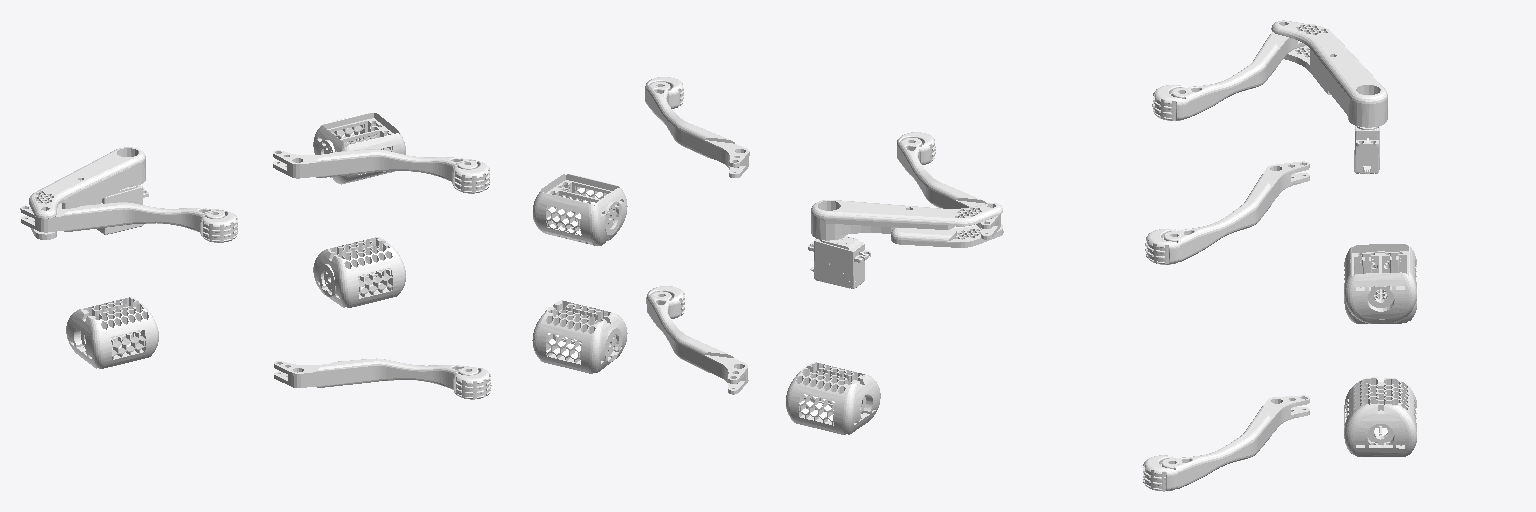
The robot description file, URDF, robot "Main Body URDF":
<?xml version="1.0" encoding="utf-8"?>
<!-- This URDF was automatically created by SolidWorks to URDF Exporter! Originally created by [author] ([email redacted]) 
     Commit Version: 1.6.0-4-g7f85cfe  Build Version: 1.6.7995.38578
     For more information, please see http://wiki.ros.org/sw_urdf_exporter -->
<robot
  name="Main Body URDF">
  <link
    name="base_link">
    <inertial>
      <origin
        xyz="-1.11022302462516E-16 -0.00302360042075001 -5.55111512312578E-17"
        rpy="0 0 0" />
      <mass
        value="0.315535261055246" />
      <inertia
        ixx="5.55978934043807E-05"
        ixy="-2.21301947020217E-21"
        ixz="2.86161333089283E-22"
        iyy="0.000227649084365836"
        iyz="-9.09924908316124E-21"
        izz="0.000187249617089345" />
    </inertial>
    <visual>
      <origin
        xyz="0 0 0"
        rpy="0 0 0" />
      <geometry>
        <mesh
          filename="package://Main Body URDF/meshes/base_link.STL" />
      </geometry>
      <material
        name="">
        <color
          rgba="1 1 1 1" />
      </material>
    </visual>
    <collision>
      <origin
        xyz="0 0 0"
        rpy="0 0 0" />
      <geometry>
        <mesh
          filename="package://Main Body URDF/meshes/base_link.STL" />
      </geometry>
    </collision>
  </link>
  <link
    name="fl_hip">
    <inertial>
      <origin
        xyz="0.0272971333033659 1.75159621585708E-05 0.00247430441137858"
        rpy="0 0 0" />
      <mass
        value="0.0474176719706317" />
      <inertia
        ixx="2.17411039399834E-05"
        ixy="-7.54915453759263E-09"
        ixz="-3.88620482540352E-07"
        iyy="3.26033730626776E-05"
        iyz="1.65166872304555E-07"
        izz="4.2637056945374E-05" />
    </inertial>
    <visual>
      <origin
        xyz="0 0 0"
        rpy="0 0 0" />
      <geometry>
        <mesh
          filename="package://Main Body URDF/meshes/fl_hip.STL" />
      </geometry>
      <material
        name="">
        <color
          rgba="1 1 1 1" />
      </material>
    </visual>
    <collision>
      <origin
        xyz="0 0 0"
        rpy="0 0 0" />
      <geometry>
        <mesh
          filename="package://Main Body URDF/meshes/fl_hip.STL" />
      </geometry>
    </collision>
  </link>
  <joint
    name="fl_hip"
    type="continuous">
    <origin
      xyz="0.0984 -0.0030292 -0.060681"
      rpy="0 0 0" />
    <parent
      link="base_link" />
    <child
      link="fl_hip" />
    <axis
      xyz="1 0 0" />
  </joint>
  <link
    name="fl_top">
    <inertial>
      <origin
        xyz="-0.0327093590748004 -0.0129114746104738 0.00626100034714228"
        rpy="0 0 0" />
      <mass
        value="0.139807399014711" />
      <inertia
        ixx="3.65926535985209E-05"
        ixy="-4.86382412840218E-05"
        ixz="1.9486191771268E-06"
        iyy="0.000125513458229608"
        iyz="1.26374835194812E-06"
        izz="0.000148862975841844" />
    </inertial>
    <visual>
      <origin
        xyz="0 0 0"
        rpy="0 0 0" />
      <geometry>
        <mesh
          filename="package://Main Body URDF/meshes/fl_top.STL" />
      </geometry>
      <material
        name="">
        <color
          rgba="1 1 1 1" />
      </material>
    </visual>
    <collision>
      <origin
        xyz="0 0 0"
        rpy="0 0 0" />
      <geometry>
        <mesh
          filename="package://Main Body URDF/meshes/fl_top.STL" />
      </geometry>
    </collision>
  </link>
  <joint
    name="fl_top"
    type="continuous">
    <origin
      xyz="0.0386 -0.011483 -0.032232"
      rpy="0 0 0" />
    <parent
      link="fl_hip" />
    <child
      link="fl_top" />
    <axis
      xyz="0 -0.01495 -0.99989" />
  </joint>
  <link
    name="fl_bottom">
    <inertial>
      <origin
        xyz="0.078482158861255 -0.0448672466577361 0.00348748963952544"
        rpy="0 0 0" />
      <mass
        value="0.0474313349742766" />
      <inertia
        ixx="2.61536457002355E-05"
        ixy="3.60251937346389E-05"
        ixz="-5.38425820651276E-07"
        iyy="6.08830489314348E-05"
        iyz="3.54056592344967E-07"
        izz="8.45670496666924E-05" />
    </inertial>
    <visual>
      <origin
        xyz="0 0 0"
        rpy="0 0 0" />
      <geometry>
        <mesh
          filename="package://Main Body URDF/meshes/fl_bottom.STL" />
      </geometry>
      <material
        name="">
        <color
          rgba="1 1 1 1" />
      </material>
    </visual>
    <collision>
      <origin
        xyz="0 0 0"
        rpy="0 0 0" />
      <geometry>
        <mesh
          filename="package://Main Body URDF/meshes/fl_bottom.STL" />
      </geometry>
    </collision>
  </link>
  <joint
    name="fl_bottom"
    type="continuous">
    <origin
      xyz="-0.12132 -0.072387 -0.013569"
      rpy="0 0 0" />
    <parent
      link="fl_top" />
    <child
      link="fl_bottom" />
    <axis
      xyz="0 -0.01495 -0.99989" />
  </joint>
  <link
    name="fr_hip">
    <inertial>
      <origin
        xyz="0.027297131982034 9.90275998717094E-05 -0.00247238563061042"
        rpy="0 0 0" />
      <mass
        value="0.0474176723475862" />
      <inertia
        ixx="2.17411062531901E-05"
        ixy="-1.07632885592874E-08"
        ixz="3.88545769681232E-07"
        iyy="3.26100851697042E-05"
        iyz="-3.07652923389513E-07"
        izz="4.26303515792848E-05" />
    </inertial>
    <visual>
      <origin
        xyz="0 0 0"
        rpy="0 0 0" />
      <geometry>
        <mesh
          filename="package://Main Body URDF/meshes/fr_hip.STL" />
      </geometry>
      <material
        name="">
        <color
          rgba="1 1 1 1" />
      </material>
    </visual>
    <collision>
      <origin
        xyz="0 0 0"
        rpy="0 0 0" />
      <geometry>
        <mesh
          filename="package://Main Body URDF/meshes/fr_hip.STL" />
      </geometry>
    </collision>
  </link>
  <joint
    name="fr_hip"
    type="continuous">
    <origin
      xyz="0.0984 -0.0030292 0.060681"
      rpy="0 0 0" />
    <parent
      link="base_link" />
    <child
      link="fr_hip" />
    <axis
      xyz="1 0 0" />
  </joint>
  <link
    name="fr_top">
    <inertial>
      <origin
        xyz="-0.0327864495707164 -0.0126313769769459 -0.00647693886353867"
        rpy="0 0 0" />
      <mass
        value="0.139807219355074" />
      <inertia
        ixx="3.60145763368299E-05"
        ixy="-4.80987732569624E-05"
        ixz="-2.77517694329877E-06"
        iyy="0.000126140761129269"
        iyz="-1.63921611186352E-06"
        izz="0.000148813501843454" />
    </inertial>
    <visual>
      <origin
        xyz="0 0 0"
        rpy="0 0 0" />
      <geometry>
        <mesh
          filename="package://Main Body URDF/meshes/fr_top.STL" />
      </geometry>
      <material
        name="">
        <color
          rgba="1 1 1 1" />
      </material>
    </visual>
    <collision>
      <origin
        xyz="0 0 0"
        rpy="0 0 0" />
      <geometry>
        <mesh
          filename="package://Main Body URDF/meshes/fr_top.STL" />
      </geometry>
    </collision>
  </link>
  <joint
    name="fr_top"
    type="continuous">
    <origin
      xyz="0.0381 -0.012136 0.032026"
      rpy="0 0 0" />
    <parent
      link="fr_hip" />
    <child
      link="fr_top" />
    <axis
      xyz="0 -0.032164 0.99948" />
  </joint>
  <link
    name="fr_bottom">
    <inertial>
      <origin
        xyz="0.0791469661032436 -0.0433740165808617 -0.0042133669017476"
        rpy="0 0 0" />
      <mass
        value="0.047431300905697" />
      <inertia
        ixx="2.48656407351239E-05"
        ixy="3.53612962863047E-05"
        ixz="1.13817640664229E-06"
        iyy="6.21887613940631E-05"
        iyz="-7.20454050525757E-07"
        izz="8.45489651842451E-05" />
    </inertial>
    <visual>
      <origin
        xyz="0 0 0"
        rpy="0 0 0" />
      <geometry>
        <mesh
          filename="package://Main Body URDF/meshes/fr_bottom.STL" />
      </geometry>
      <material
        name="">
        <color
          rgba="1 1 1 1" />
      </material>
    </visual>
    <collision>
      <origin
        xyz="0 0 0"
        rpy="0 0 0" />
      <geometry>
        <mesh
          filename="package://Main Body URDF/meshes/fr_bottom.STL" />
      </geometry>
    </collision>
  </link>
  <joint
    name="fr_bottom"
    type="continuous">
    <origin
      xyz="-0.121749494844511 -0.0718844345331731 0.0123443050311544"
      rpy="0 0 0" />
    <parent
      link="fr_top" />
    <child
      link="fr_bottom" />
    <axis
      xyz="0 -0.0321638727308673 0.999482608798649" />
  </joint>
  <link
    name="br_hip">
    <inertial>
      <origin
        xyz="-0.0272971344226925 -6.43744326411511E-05 -0.00247351850938268"
        rpy="0 0 0" />
      <mass
        value="0.0474176686622597" />
      <inertia
        ixx="2.17411069156438E-05"
        ixy="-5.31705130526738E-09"
        ixz="-3.88657711748625E-07"
        iyy="3.26034343522744E-05"
        iyz="1.67117958442211E-07"
        izz="4.26370068764065E-05" />
    </inertial>
    <visual>
      <origin
        xyz="0 0 0"
        rpy="0 0 0" />
      <geometry>
        <mesh
          filename="package://Main Body URDF/meshes/br_hip.STL" />
      </geometry>
      <material
        name="">
        <color
          rgba="1 1 1 1" />
      </material>
    </visual>
    <collision>
      <origin
        xyz="0 0 0"
        rpy="0 0 0" />
      <geometry>
        <mesh
          filename="package://Main Body URDF/meshes/br_hip.STL" />
      </geometry>
    </collision>
  </link>
  <joint
    name="br_hip"
    type="continuous">
    <origin
      xyz="-0.0984 -0.0030292 0.060681"
      rpy="0 0 0" />
    <parent
      link="base_link" />
    <child
      link="br_hip" />
    <axis
      xyz="-1 0 0" />
  </joint>
  <link
    name="br_top">
    <inertial>
      <origin
        xyz="-0.0331307458806611 -0.0121448427162066 -0.00584779936915039"
        rpy="0 0 0" />
      <mass
        value="0.139807219513831" />
      <inertia
        ixx="3.34135369969368E-05"
        ixy="-4.57757281094289E-05"
        ixz="-4.20400289917178E-07"
        iyy="0.000128634824886818"
        iyz="-5.05556246790766E-07"
        izz="0.000148920477468448" />
    </inertial>
    <visual>
      <origin
        xyz="0 0 0"
        rpy="0 0 0" />
      <geometry>
        <mesh
          filename="package://Main Body URDF/meshes/br_top.STL" />
      </geometry>
      <material
        name="">
        <color
          rgba="1 1 1 1" />
      </material>
    </visual>
    <collision>
      <origin
        xyz="0 0 0"
        rpy="0 0 0" />
      <geometry>
        <mesh
          filename="package://Main Body URDF/meshes/br_top.STL" />
      </geometry>
    </collision>
  </link>
  <joint
    name="br_top"
    type="continuous">
    <origin
      xyz="-0.0186000000001146 -0.0104099959720499 0.0325943550920316"
      rpy="0 0 0" />
    <parent
      link="br_hip" />
    <child
      link="br_top" />
    <axis
      xyz="0 0.0181540508072637 0.999835201640394" />
  </joint>
  <link
    name="br_bottom">
    <inertial>
      <origin
        xyz="0.0791720299116837 -0.043485483448343 -0.00202700123300074"
        rpy="0 0 0" />
      <mass
        value="0.0474313351974432" />
      <inertia
        ixx="2.48249541491992E-05"
        ixy="3.53523648270132E-05"
        ixz="-6.41679591763938E-07"
        iyy="6.22138157655498E-05"
        iyz="4.05829964915507E-07"
        izz="8.45649759822488E-05" />
    </inertial>
    <visual>
      <origin
        xyz="0 0 0"
        rpy="0 0 0" />
      <geometry>
        <mesh
          filename="package://Main Body URDF/meshes/br_bottom.STL" />
      </geometry>
      <material
        name="">
        <color
          rgba="1 1 1 1" />
      </material>
    </visual>
    <collision>
      <origin
        xyz="0 0 0"
        rpy="0 0 0" />
      <geometry>
        <mesh
          filename="package://Main Body URDF/meshes/br_bottom.STL" />
      </geometry>
    </collision>
  </link>
  <joint
    name="br_bottom"
    type="continuous">
    <origin
      xyz="-0.12368 -0.067775 0.015883"
      rpy="0 0 0" />
    <parent
      link="br_top" />
    <child
      link="br_bottom" />
    <axis
      xyz="0 0.018154 0.99984" />
  </joint>
  <link
    name="bl_hip">
    <inertial>
      <origin
        xyz="-0.0272971324067885 -3.03826091760384E-05 0.00247418544860611"
        rpy="0 0 0" />
      <mass
        value="0.0474176737292142" />
      <inertia
        ixx="2.17411030263018E-05"
        ixy="-9.5701323711005E-09"
        ixz="3.88576084639885E-07"
        iyy="3.26053625381511E-05"
        iyz="-2.17344053344976E-07"
        izz="4.2635063560594E-05" />
    </inertial>
    <visual>
      <origin
        xyz="0 0 0"
        rpy="0 0 0" />
      <geometry>
        <mesh
          filename="package://Main Body URDF/meshes/bl_hip.STL" />
      </geometry>
      <material
        name="">
        <color
          rgba="1 1 1 1" />
      </material>
    </visual>
    <collision>
      <origin
        xyz="0 0 0"
        rpy="0 0 0" />
      <geometry>
        <mesh
          filename="package://Main Body URDF/meshes/bl_hip.STL" />
      </geometry>
    </collision>
  </link>
  <joint
    name="bl_hip"
    type="continuous">
    <origin
      xyz="-0.0984 -0.00302922105364486 -0.0606811932633948"
      rpy="0 0 0" />
    <parent
      link="base_link" />
    <child
      link="bl_hip" />
    <axis
      xyz="-1 0 0" />
  </joint>
  <link
    name="bl_top">
    <inertial>
      <origin
        xyz="-0.0332919917737501 -0.011761405740684 0.00583145711228239"
        rpy="0 0 0" />
      <mass
        value="0.139807399049" />
      <inertia
        ixx="3.21840569388915E-05"
        ixy="-4.4543175426684E-05"
        ixz="3.65621400096592E-07"
        iyy="0.000129862688192871"
        iyz="4.73135842246664E-07"
        izz="0.000148922342306775" />
    </inertial>
    <visual>
      <origin
        xyz="0 0 0"
        rpy="0 0 0" />
      <geometry>
        <mesh
          filename="package://Main Body URDF/meshes/bl_top.STL" />
      </geometry>
      <material
        name="">
        <color
          rgba="1 1 1 1" />
      </material>
    </visual>
    <collision>
      <origin
        xyz="0 0 0"
        rpy="0 0 0" />
      <geometry>
        <mesh
          filename="package://Main Body URDF/meshes/bl_top.STL" />
      </geometry>
    </collision>
  </link>
  <joint
    name="bl_top"
    type="continuous">
    <origin
      xyz="-0.0181000000001183 -0.0103448839199625 -0.0326150789771615"
      rpy="0 0 0" />
    <parent
      link="bl_hip" />
    <child
      link="bl_top" />
    <axis
      xyz="0 0.0201506967677564 -0.999796954096067" />
  </joint>
  <link
    name="bl_bottom">
    <inertial>
      <origin
        xyz="0.0817269974185858 -0.0387448949191614 0.00203600565191636"
        rpy="0 0 0" />
      <mass
        value="0.0474313022831092" />
      <inertia
        ixx="2.07936948016118E-05"
        ixy="3.29061979419238E-05"
        ixz="6.63457157491476E-07"
        iyy="6.62449710559728E-05"
        iyz="-3.69511557204602E-07"
        izz="8.45647068879262E-05" />
    </inertial>
    <visual>
      <origin
        xyz="0 0 0"
        rpy="0 0 0" />
      <geometry>
        <mesh
          filename="package://Main Body URDF/meshes/bl_bottom.STL" />
      </geometry>
      <material
        name="">
        <color
          rgba="1 1 1 1" />
      </material>
    </visual>
    <collision>
      <origin
        xyz="0 0 0"
        rpy="0 0 0" />
      <geometry>
        <mesh
          filename="package://Main Body URDF/meshes/bl_bottom.STL" />
      </geometry>
    </collision>
  </link>
  <joint
    name="bl_bottom"
    type="continuous">
    <origin
      xyz="-0.124595939429202 -0.0660533751871663 -0.0159842670738399"
      rpy="0 0 0" />
    <parent
      link="bl_top" />
    <child
      link="bl_bottom" />
    <axis
      xyz="0 0.0201506967677544 -0.999796954096068" />
  </joint>
</robot>

--- What the picture shows (computed from the rendered views, not written in the file) ---
The picture shows the robot from 3 angles, left to right: view 1: azimuth 30°, elevation 25°; view 2: azimuth 150°, elevation 25°; view 3: azimuth 270°, elevation 25°; orthographic projection.
Robot: Main Body URDF — 13 links, 12 joints (12 continuous); root link base_link; default pose: all joints at 0.
Visible links, largest first — view 1: br_top, fr_bottom, bl_hip, fl_bottom, fl_hip, br_bottom, fr_hip; view 2: br_top, fl_hip, bl_hip, fr_hip, fl_bottom, fr_bottom, br_bottom; view 3: br_top, fr_hip, fl_hip, fr_bottom, fl_bottom, br_bottom.
Boxes of the visible links, <box> form: br_top: <box>29,147,148,239</box>; fr_bottom: <box>273,149,489,193</box>; bl_hip: <box>66,297,158,368</box>; fl_bottom: <box>274,358,491,399</box>; fl_hip: <box>313,237,405,307</box>; br_bottom: <box>20,202,237,242</box>; fr_hip: <box>313,112,405,184</box>; br_top: <box>808,200,1003,288</box>; fl_hip: <box>532,300,627,373</box>; bl_hip: <box>786,362,880,434</box>; fr_hip: <box>533,174,627,245</box>; fl_bottom: <box>646,286,748,394</box>; fr_bottom: <box>645,77,749,177</box>; br_bottom: <box>897,132,1000,239</box>; br_top: <box>1271,20,1387,173</box>; fr_hip: <box>1344,244,1416,323</box>; fl_hip: <box>1344,377,1416,456</box>; fr_bottom: <box>1145,161,1309,264</box>; fl_bottom: <box>1143,395,1309,491</box>; br_bottom: <box>1152,24,1314,120</box>.
Size in the robot's own frame: 0.4134 by 0.2212 by 0.2326 metres.
Meshes: 13 distinct files referenced, 7 mesh visuals loaded (7 binary STL); not drawn: 6 (file found but could not be loaded).